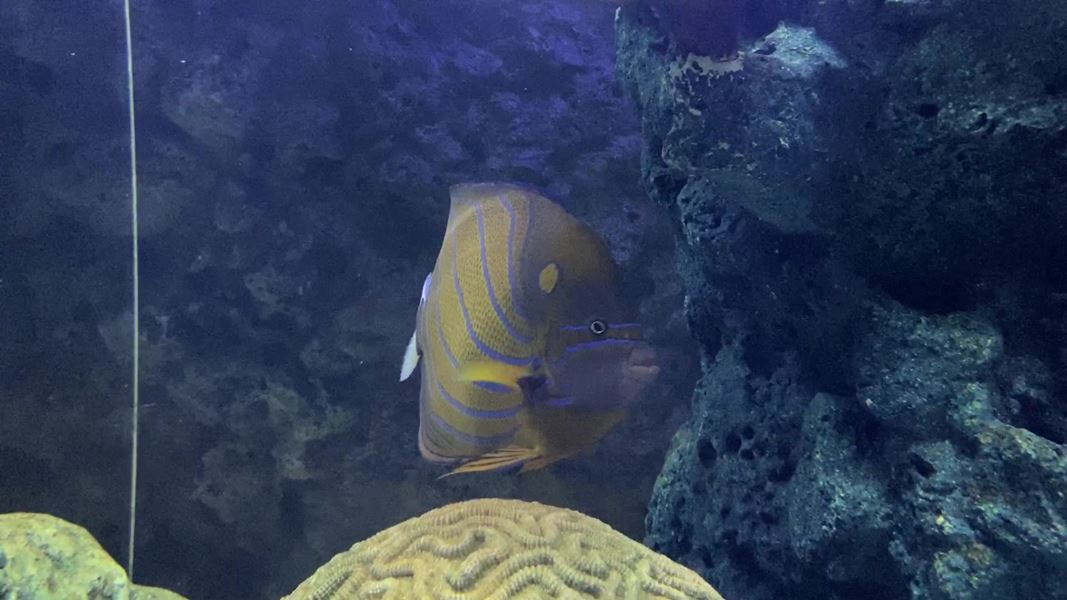Blue ring angelfish: (369, 175, 681, 497)
